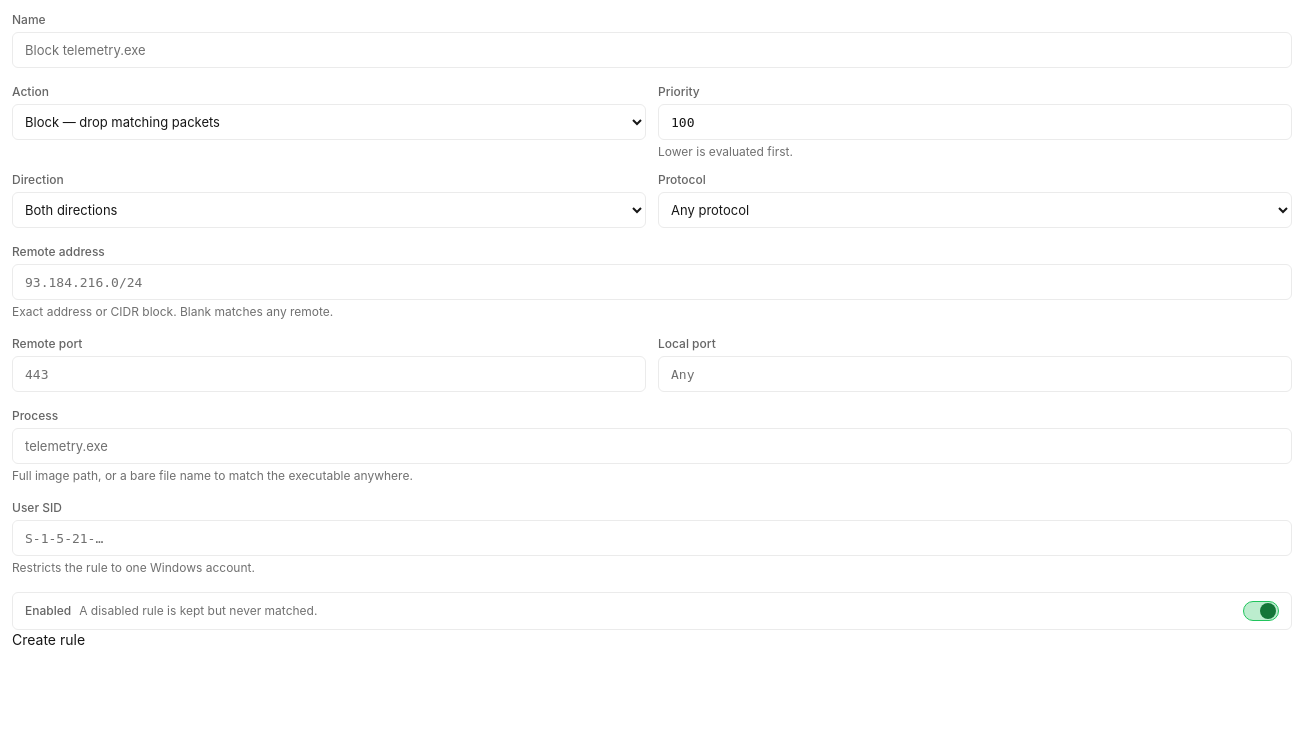
it: RuleForm › clears the message and re-enables submit once the value is fixed
Type "Block telemetry" into the field labelled "Name" at (652, 50), box [12,32,1292,68]
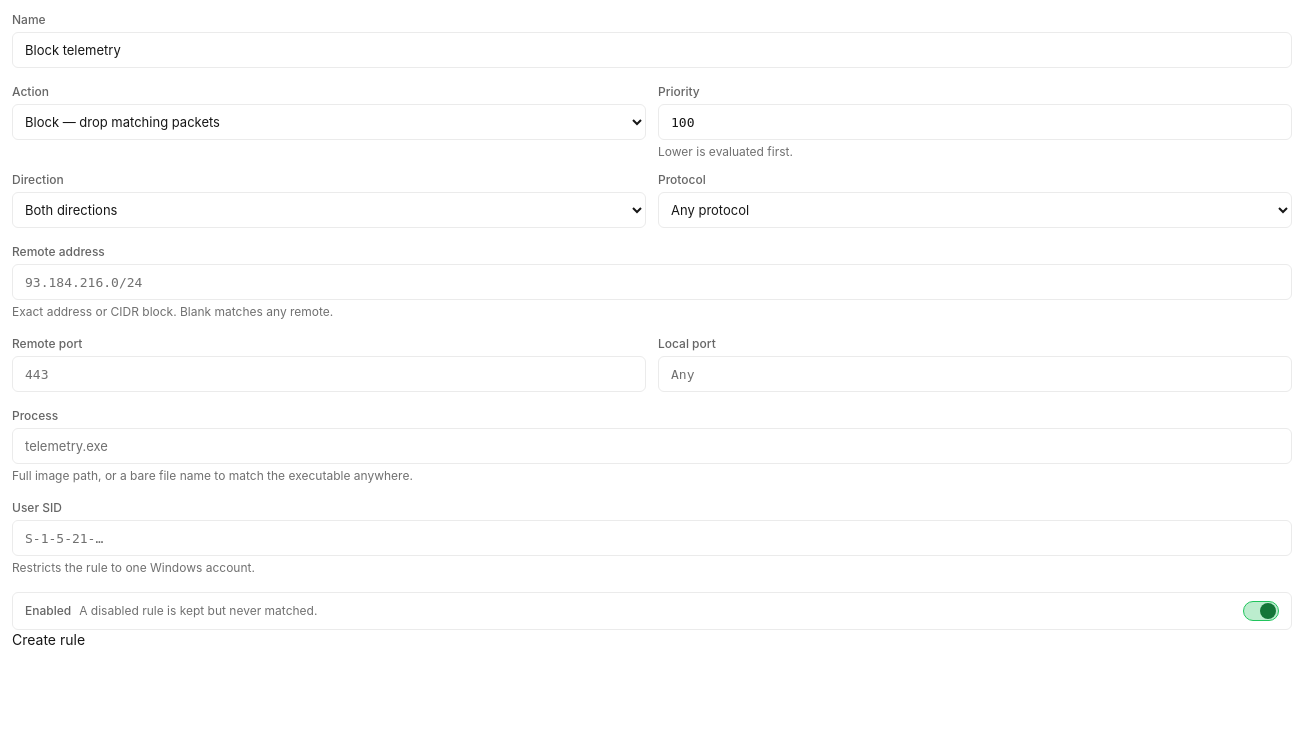
Type "99999" into the field labelled "Remote port" at (329, 374), box [12,356,646,392]
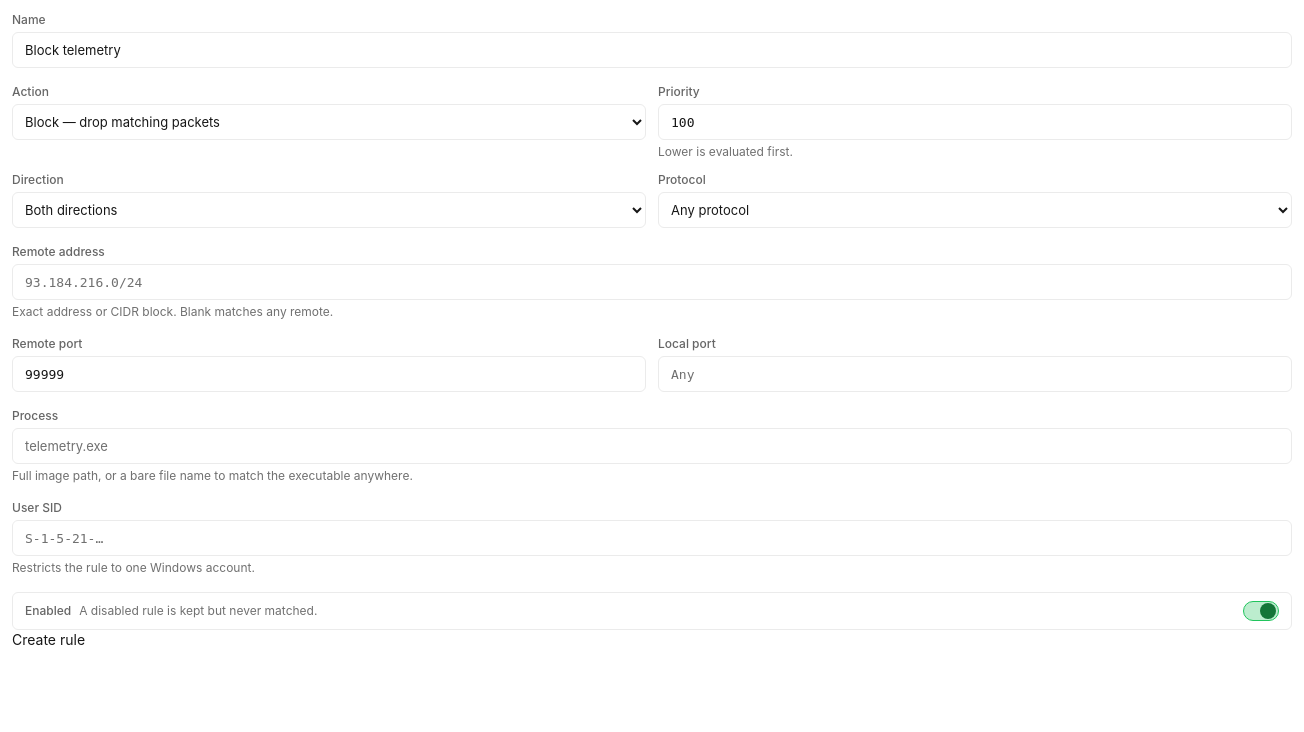
Leave the field labelled "Remote port", box [12,356,646,392]
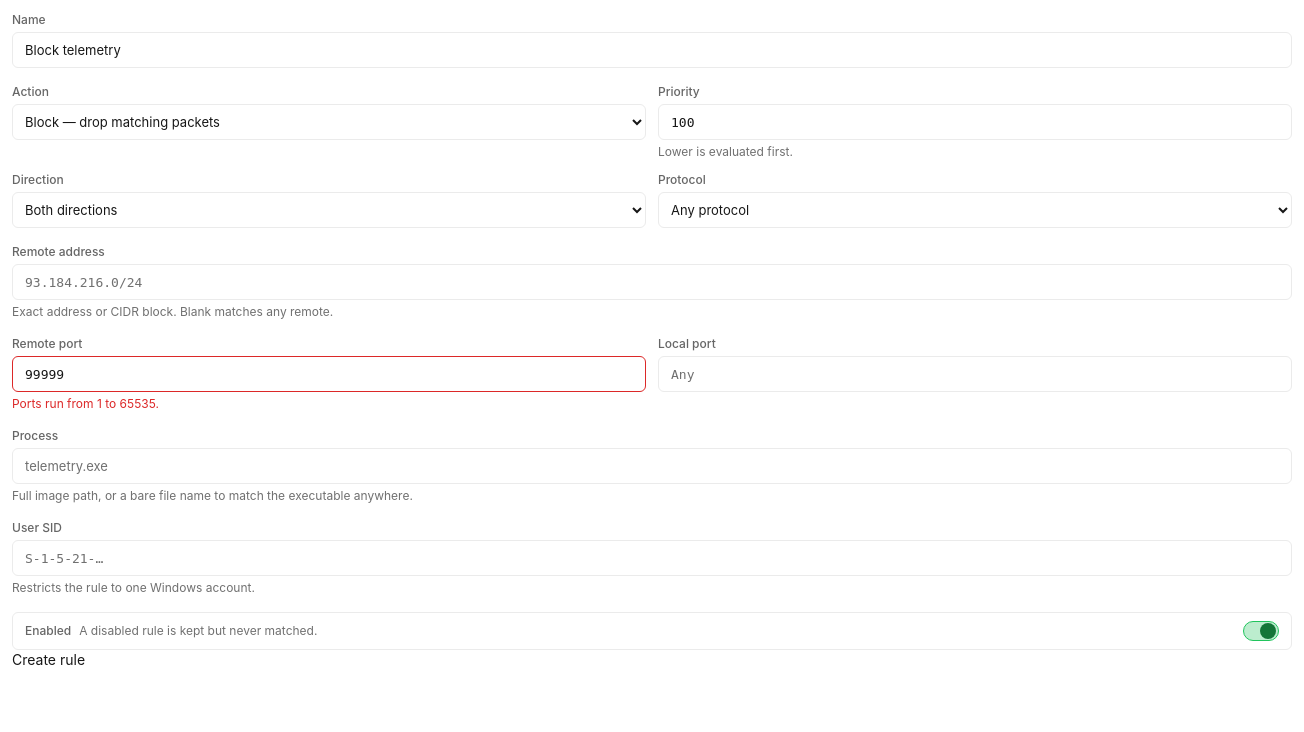
expect the button "Create rule" is disabled: met, box [12,650,85,670]
expect the text "Ports run from 1 to 65535." is shown: met, box [12,396,159,411]
Replace the text in the field labelled "Remote port" with "443" at (329, 374), box [12,356,646,392]
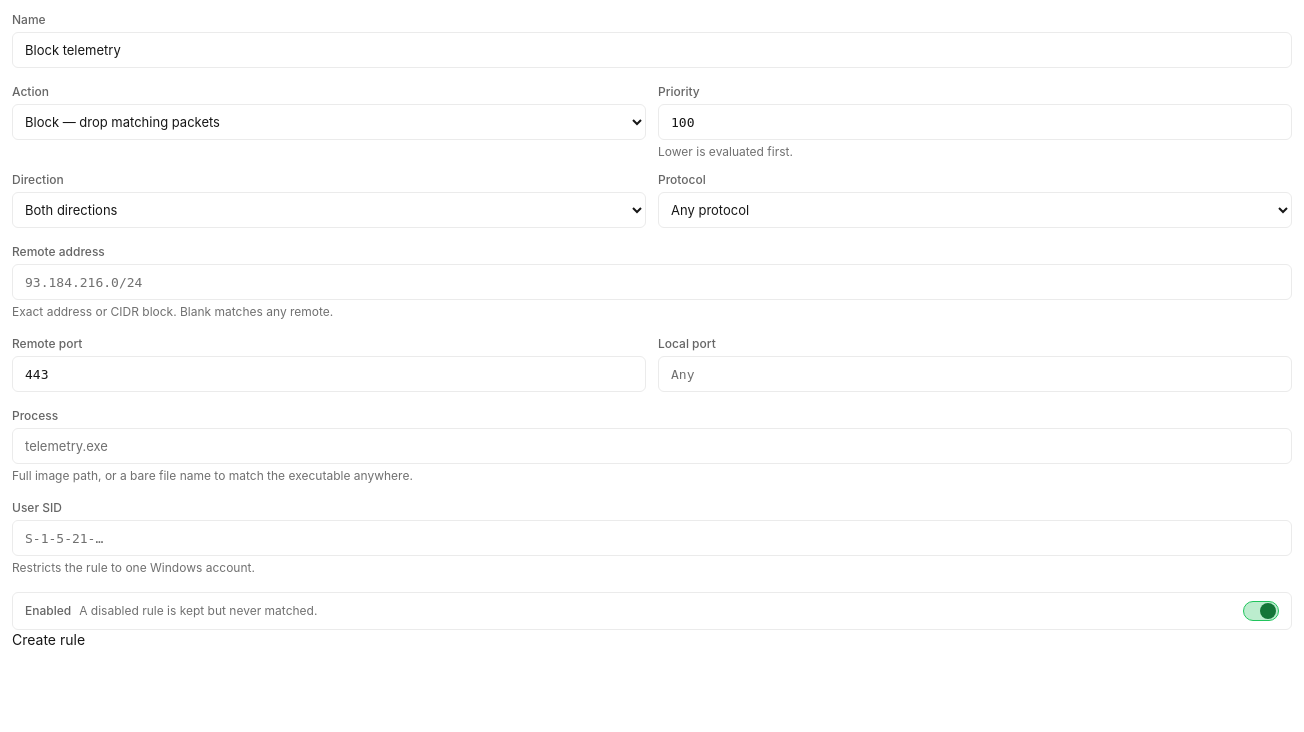
expect the text "Ports run from 1 to 65535" is gone: met
expect the button "Create rule" is enabled: met, box [12,630,85,650]
